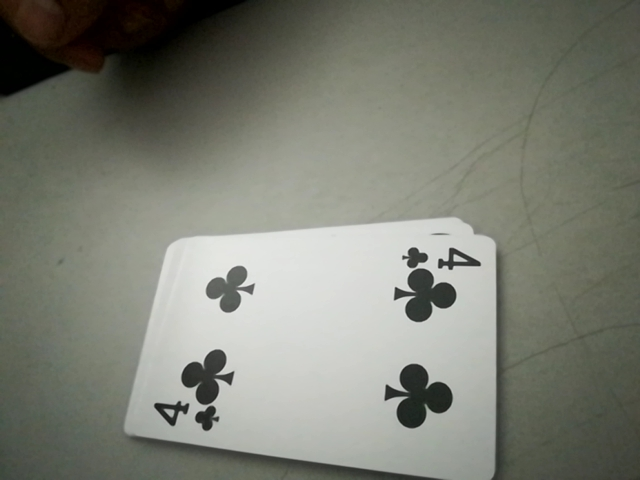mh 4: (144, 394, 229, 439), (400, 235, 489, 273)
